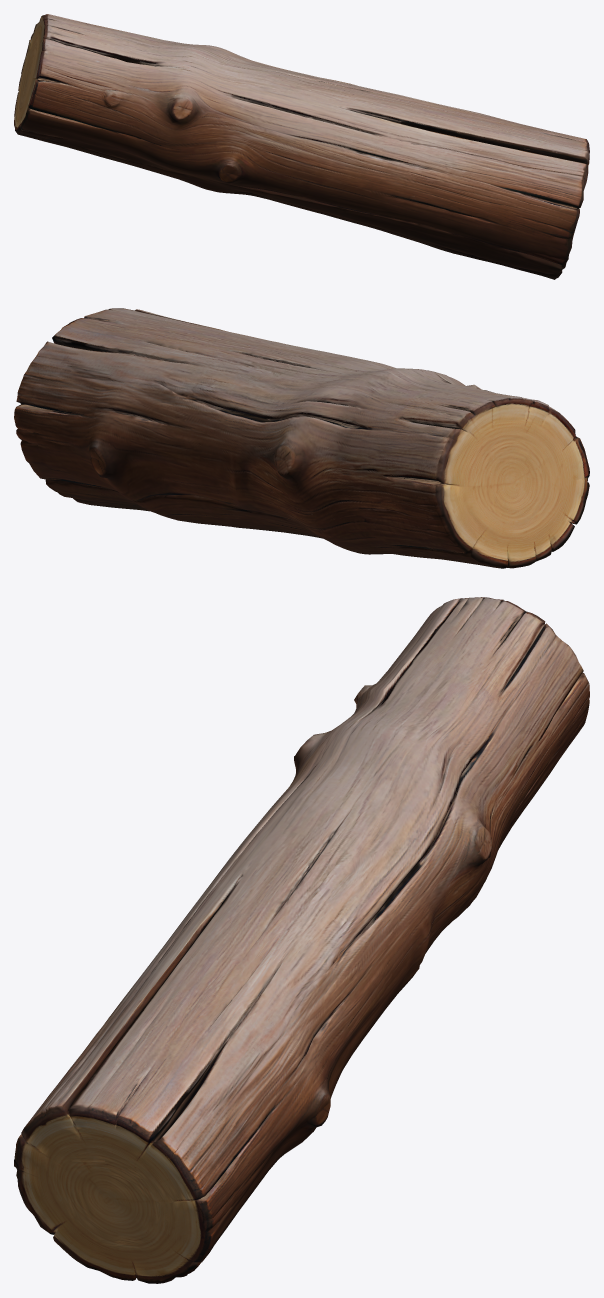
3 views of the same model, one above another, from view 1: azimuth 30°, elevation 25°; view 2: azimuth 150°, elevation 25°; view 3: azimuth 270°, elevation 25° (orthographic). The views are drawn at different scales.
Visible parts, largest first — view 1: tripo_node_b86144a4-d1df-4da5-ac18-fd7994d81266; view 2: tripo_node_b86144a4-d1df-4da5-ac18-fd7994d81266; view 3: tripo_node_b86144a4-d1df-4da5-ac18-fd7994d81266.
Part boxes in pixels (x1,y1,x2,y2): tripo_node_b86144a4-d1df-4da5-ac18-fd7994d81266: (14, 14, 589, 279); tripo_node_b86144a4-d1df-4da5-ac18-fd7994d81266: (14, 308, 589, 568); tripo_node_b86144a4-d1df-4da5-ac18-fd7994d81266: (14, 597, 589, 1283).
Bounding box in the file's own units: 0.9794 × 0.5015 × 0.6665.
1 material, 1 textured.
